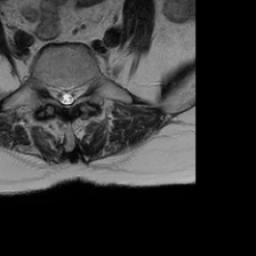CCS_severe_stenosis: (63, 80, 70, 114)
LFS_normal: (77, 75, 86, 105)
LLS_normal: (70, 77, 77, 107)
RFS_normal: (46, 76, 56, 105)
RLS_normal: (56, 77, 63, 111)
